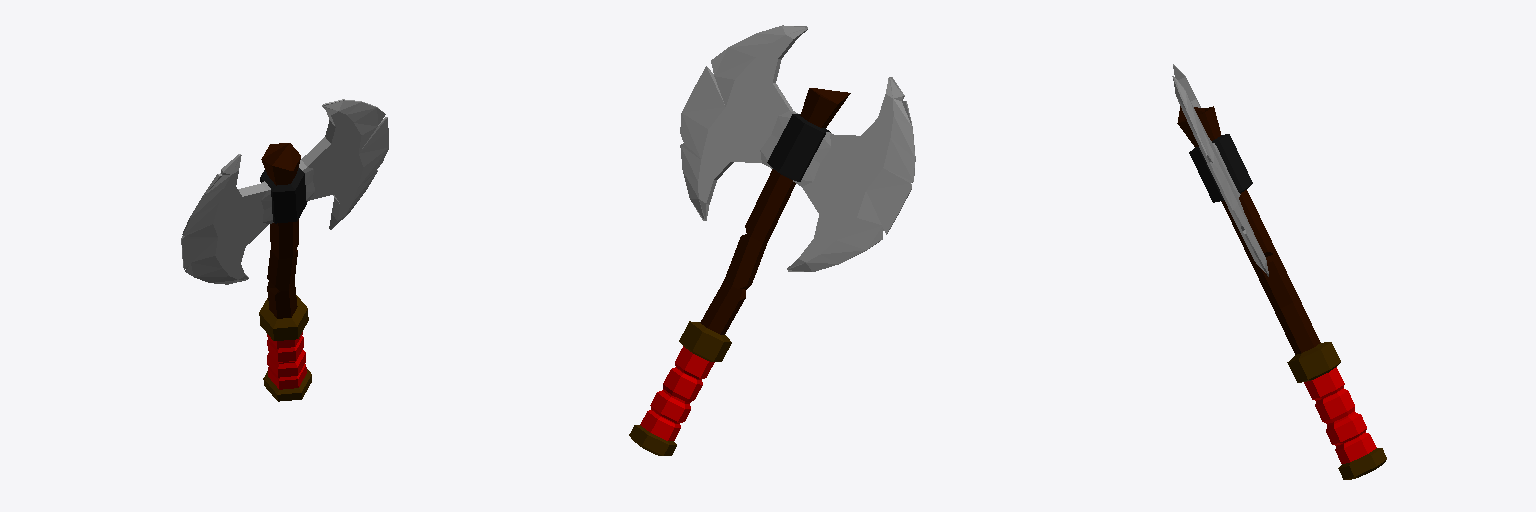
Rendered from Axe.obj.
The picture shows the model from 3 angles: view 1: azimuth 30°, elevation 25°; view 2: azimuth 150°, elevation 25°; view 3: azimuth 270°, elevation 25°; orthographic projection.
Visible parts, largest first — view 1: Axe, Handle; view 2: Axe, Handle; view 3: Handle, Axe.
Part boxes in pixels (x1,y1,x2,y2): Axe: (181,99,388,284); Handle: (259,143,311,401); Axe: (680,25,915,271); Handle: (629,88,850,455); Handle: (1177,106,1386,479); Axe: (1172,64,1268,276).
Size of the model in its own units: 1.25 by 2.05 by 1.06.